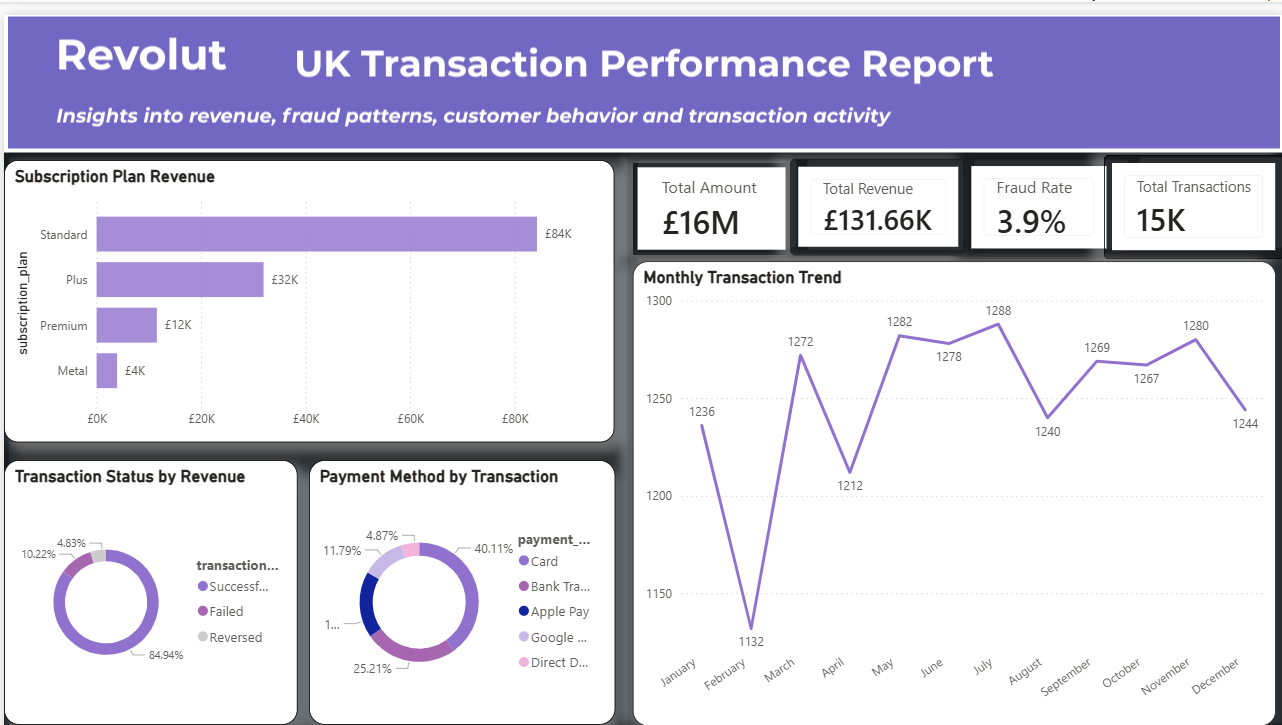

What the dashboard file says about the page in this screenshot:
{"tool":"powerbi","page":{"name":"Home","canvas":[1280,720],"ordinal":0},"visuals":[{"type":"cardVisual","fields":{"Data":["revolut_cleaned.Total Amount"]},"box":[628.6,147.2,158,92.9],"z":0},{"type":"cardVisual","fields":{"Data":["revolut_cleaned.Total Revenue"]},"box":[786.6,143.6,176.1,96.5],"z":1000},{"type":"cardVisual","fields":{"Data":["revolut_cleaned.Fraud Rate"]},"box":[962.7,146,146,92.9],"z":2000},{"type":"cardVisual","fields":{"Data":["revolut_cleaned.Total Transactions"]},"box":[1100.3,139.9,179.8,103.8],"z":3000},{"type":"barChart","title":"Subscription Plan Revenue","fields":{"Y":["revolut_cleaned.Total Revenue"],"Category":["revolut_cleaned.subscription_plan"]},"box":[0,145.5,610.6,282.7],"z":4000},{"type":"lineChart","title":"Monthly Transaction Trend","fields":{"Y":["revolut_cleaned.Total Transactions"],"Category":["revolut_cleaned.month_name"]},"box":[628.6,246.1,643,464.5],"z":5000},{"type":"donutChart","title":"Transaction Status by Revenue","fields":{"Category":["revolut_cleaned.transaction_status"],"Y":["revolut_cleaned.Total Revenue"]},"box":[0,444.6,293.7,264.8],"z":6000},{"type":"donutChart","title":"Payment Method by Transaction","fields":{"Category":["revolut_cleaned.payment_method"],"Y":["revolut_cleaned.Total Transactions"]},"box":[304.6,444.6,306,264.8],"z":7000}]}

Visuals, with their boxes in screenshot pixels (x1, y1, x2, y2), scaled from the page's 1280x720 canvas onto the 1282x725 screenshot:
cardVisual - revolut_cleaned.Total Amount: 630:148:788:242
cardVisual - revolut_cleaned.Total Revenue: 788:145:964:242
cardVisual - revolut_cleaned.Fraud Rate: 964:147:1110:241
cardVisual - revolut_cleaned.Total Transactions: 1102:141:1281:245
"Subscription Plan Revenue" barChart: 0:147:612:431
"Monthly Transaction Trend" lineChart: 630:248:1274:716
"Transaction Status by Revenue" donutChart: 0:448:294:714
"Payment Method by Transaction" donutChart: 305:448:612:714
